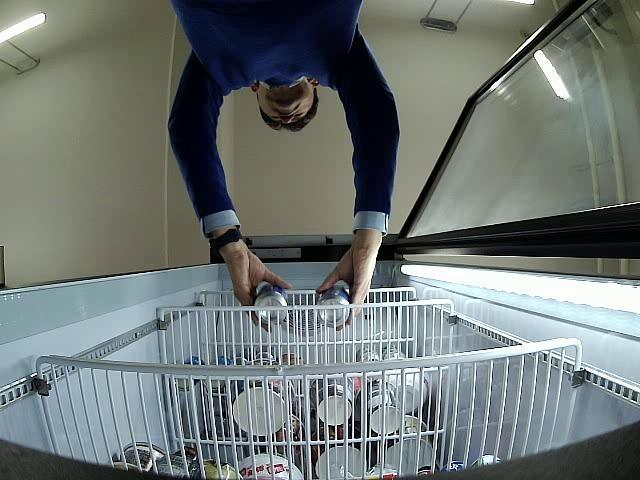13_pocariSweat: (316, 287, 351, 327), (255, 284, 288, 324)
